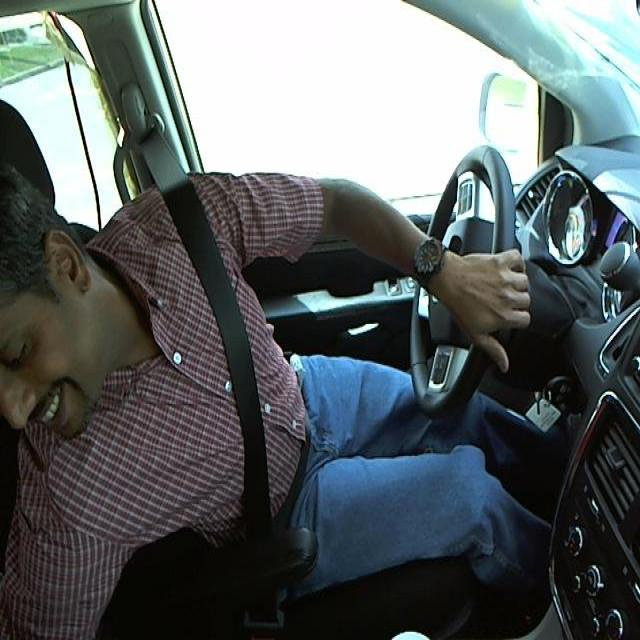seatbelt: (159, 188, 293, 609)
